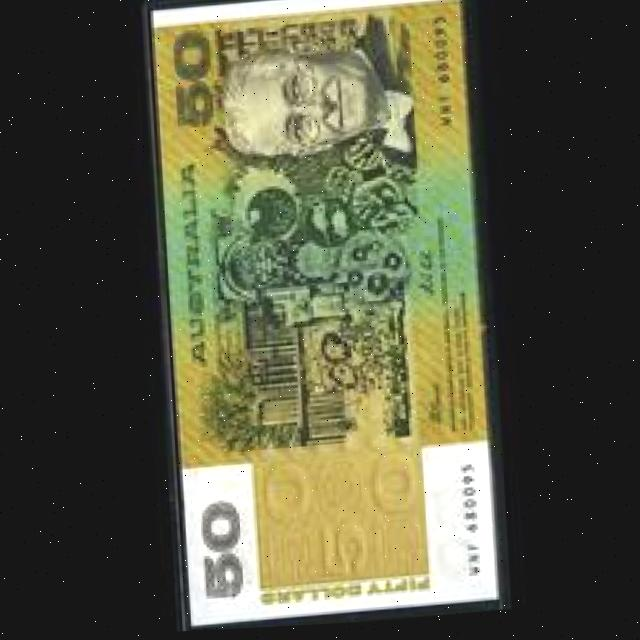banknote: (154, 0, 494, 629)
